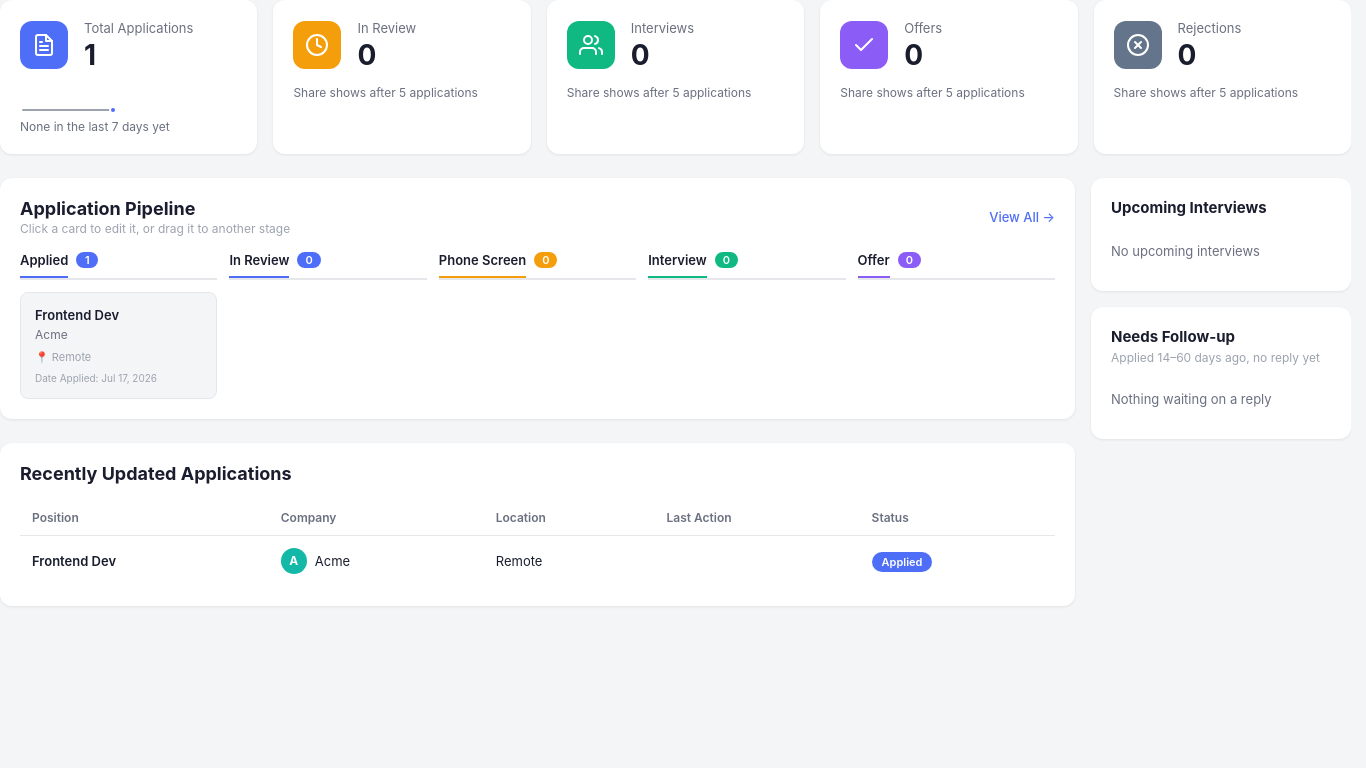
Test: Dashboard board interactions › opens the job for editing when a card is clicked
Click the button with aria-label "Frontend Dev, Acme". click: (119, 345)
box: x1=20 y1=292 x2=217 y2=399
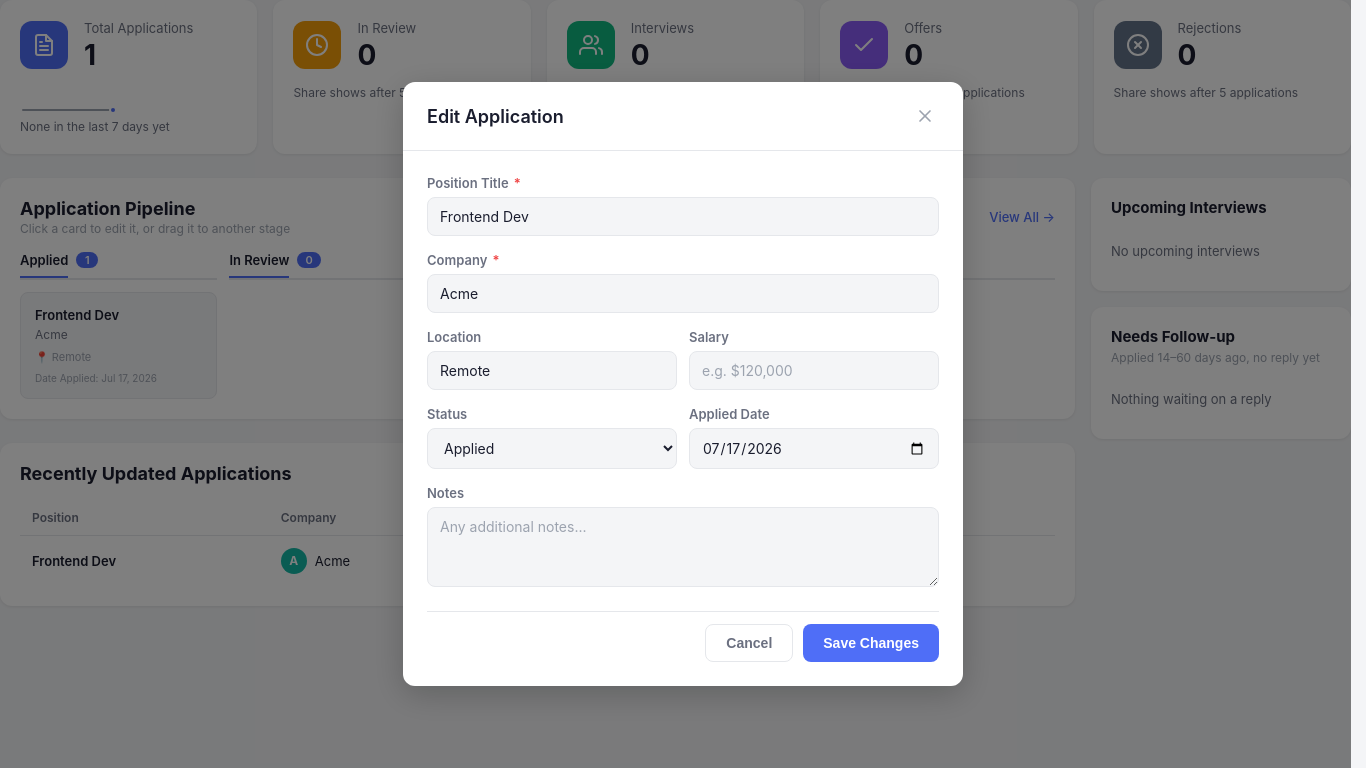
Expected: the heading "Edit Application" is shown, x1=427 y1=106 x2=564 y2=126
Expected: the field showing "Frontend Dev" below "Position Title" is shown, x1=427 y1=197 x2=939 y2=236
